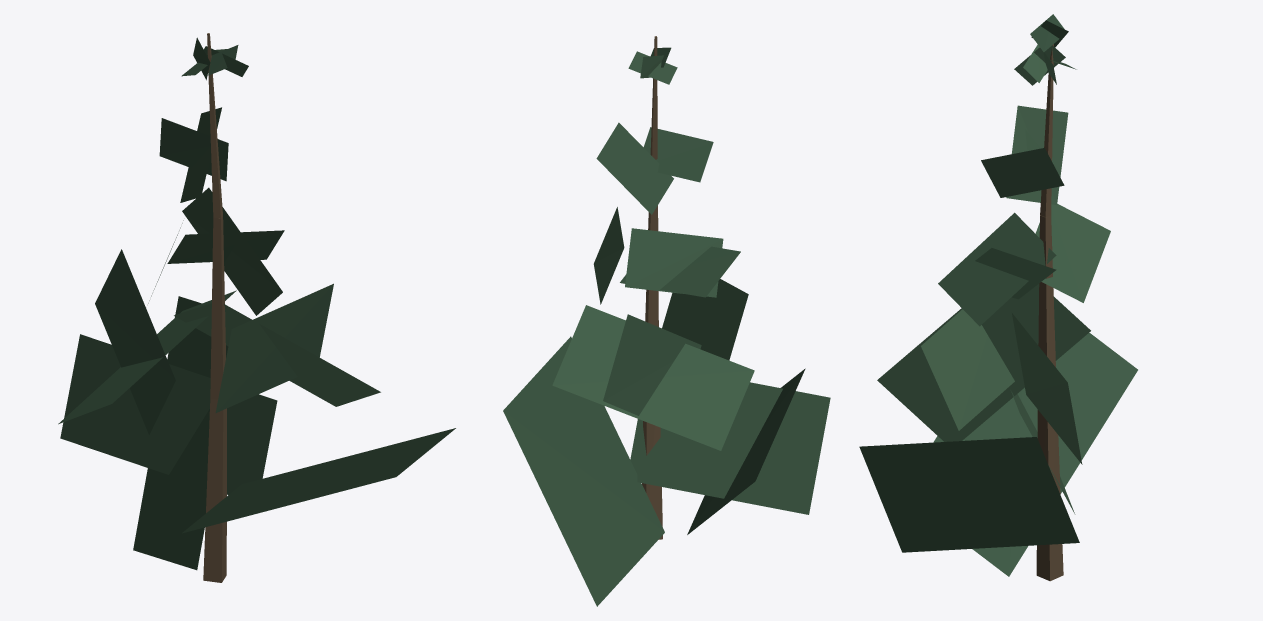
The model's file is medium_spruce-far.glb.
3 renders of one model, left to right at view 1: azimuth 30°, elevation 25°; view 2: azimuth 150°, elevation 25°; view 3: azimuth 270°, elevation 25°, orthographic. The views are drawn at different scales.
Visible parts, largest first — view 1: world-scenery/medium_spruce-far; view 2: world-scenery/medium_spruce-far; view 3: world-scenery/medium_spruce-far.
Boxes of the visible parts, left/top/right/bottom form: world-scenery/medium_spruce-far: left=58, top=33, right=455, bottom=582; world-scenery/medium_spruce-far: left=503, top=36, right=830, bottom=606; world-scenery/medium_spruce-far: left=859, top=14, right=1137, bottom=581.
Bounding box in the file's own units: 2.69 × 4.22 × 2.57.
